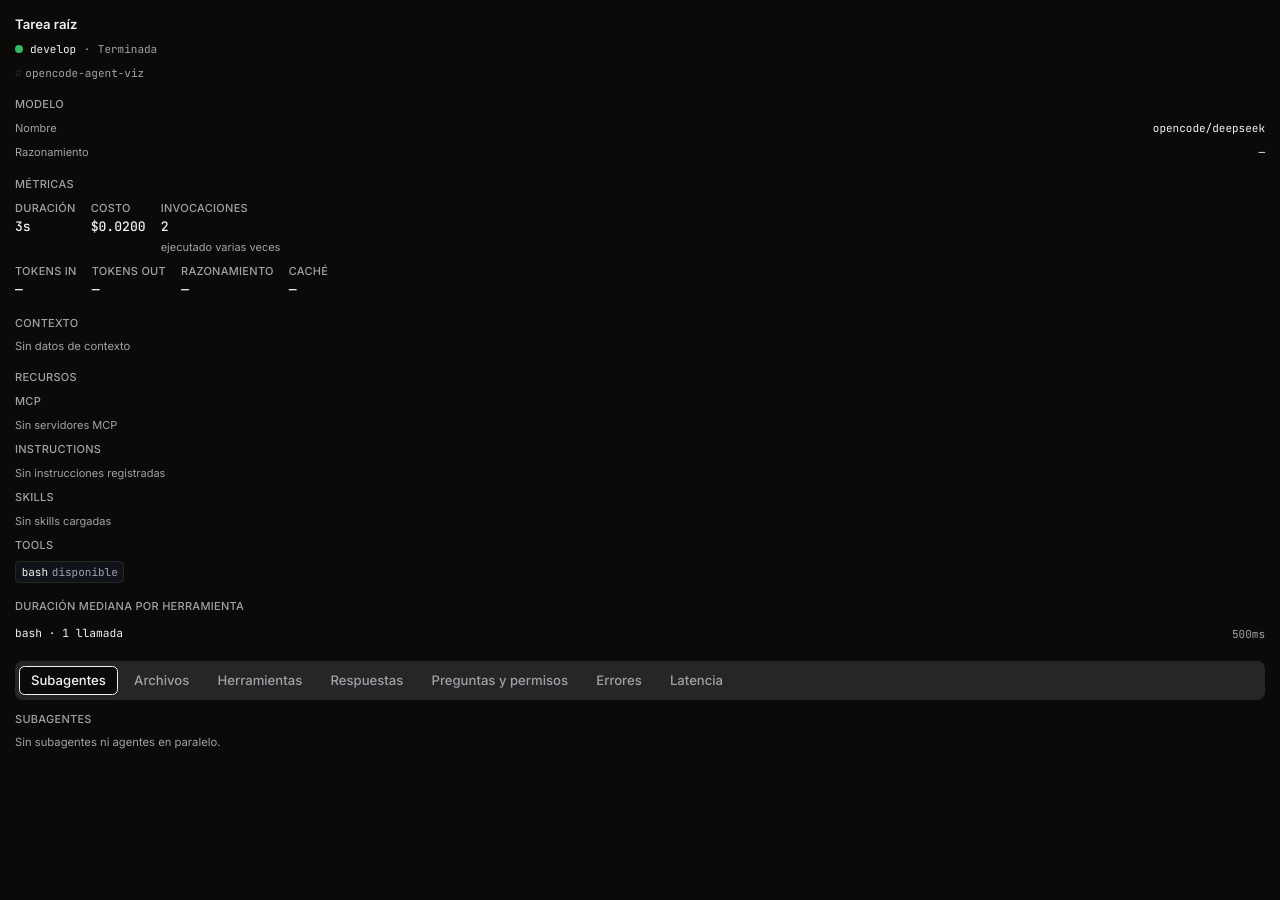
Test: InspectorPanel › switches sections with the tablist without duplicating the summary (SC-003)
Check: the number of tabs "Archivos" is 1, box [122,666,201,695]
Check: the number of tabs "Respuestas" is 1, box [318,666,416,695]
What coordinates should you click on to do the following:
click the tab "Herramientas"
I would click on:
 (260, 680)
Its box is [205,666,314,695].
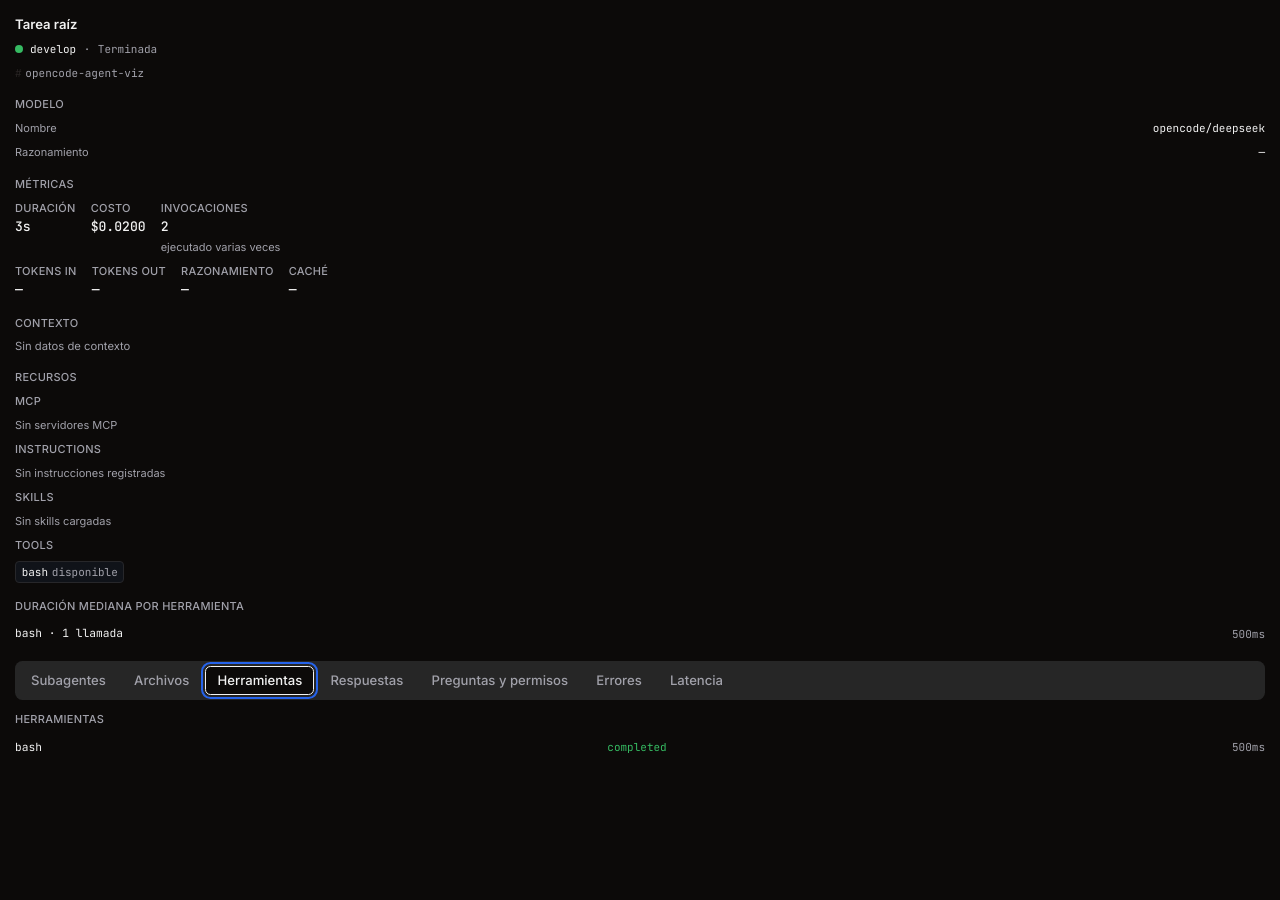
Check: the text "Métricas" is shown once, box [15,176,74,190]
Check: the text "Herramientas" is shown, box [15,712,104,726]
Check: the text "bash" is shown, box [15,740,42,755]
What coordinates should you click on to do the following:
click the tab "Archivos"
I would click on:
 (162, 680)
Its box is [122,666,201,695].
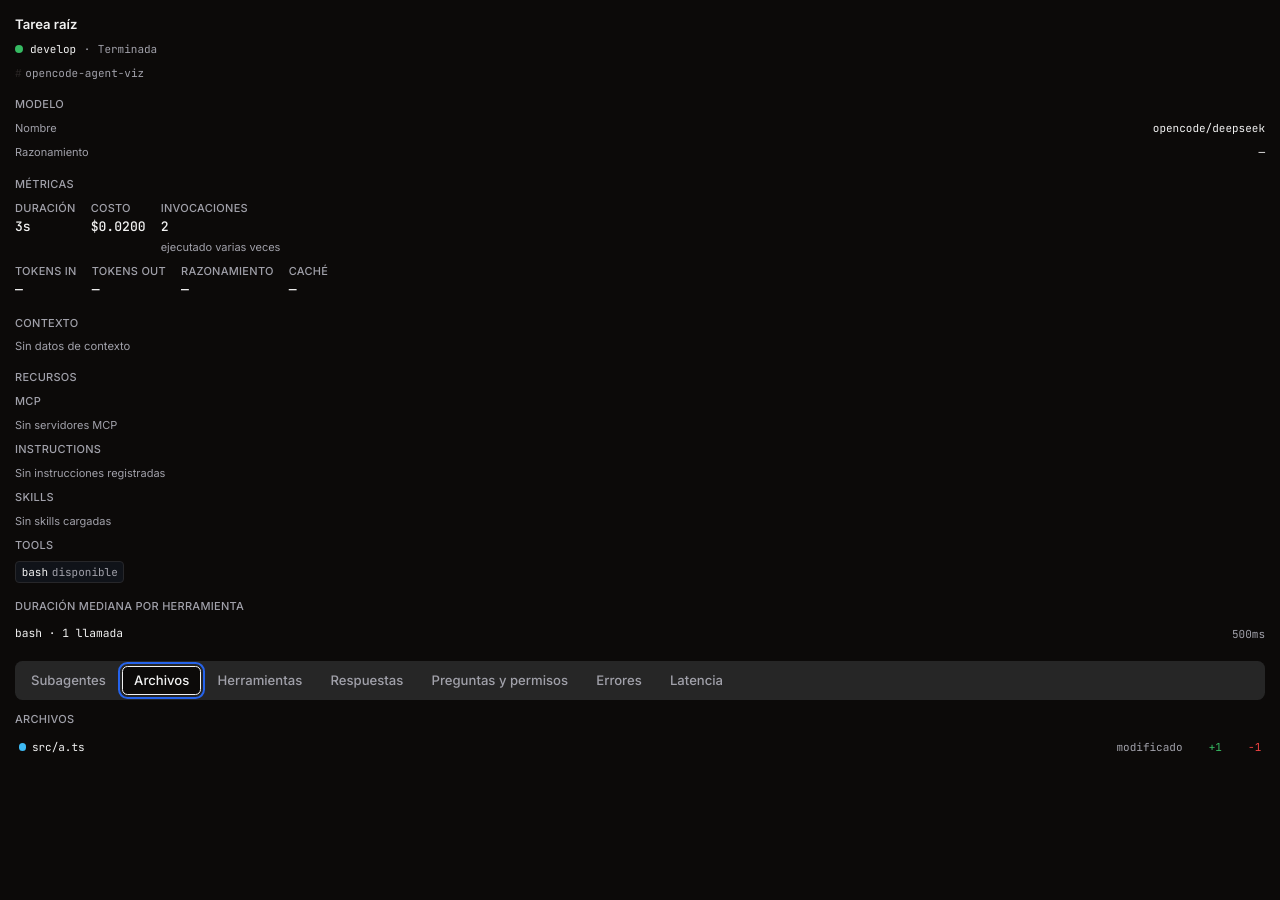
Check: the text "src/a.ts" is shown, box [32,740,85,754]
